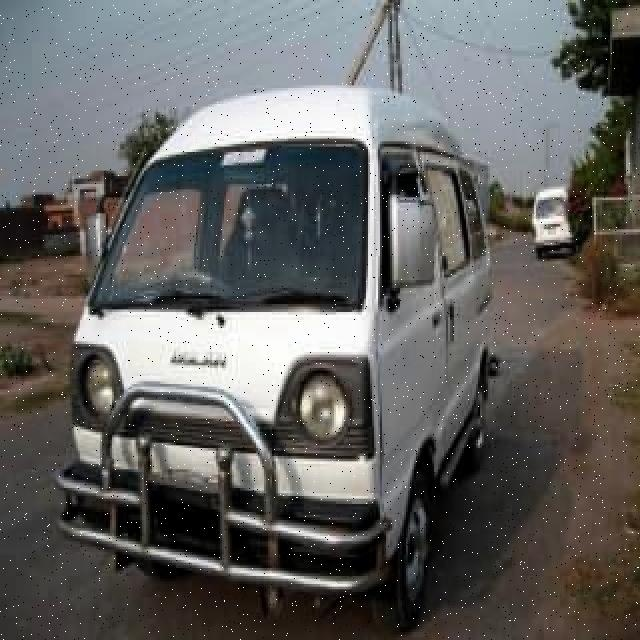Van: (64, 83, 500, 637)
